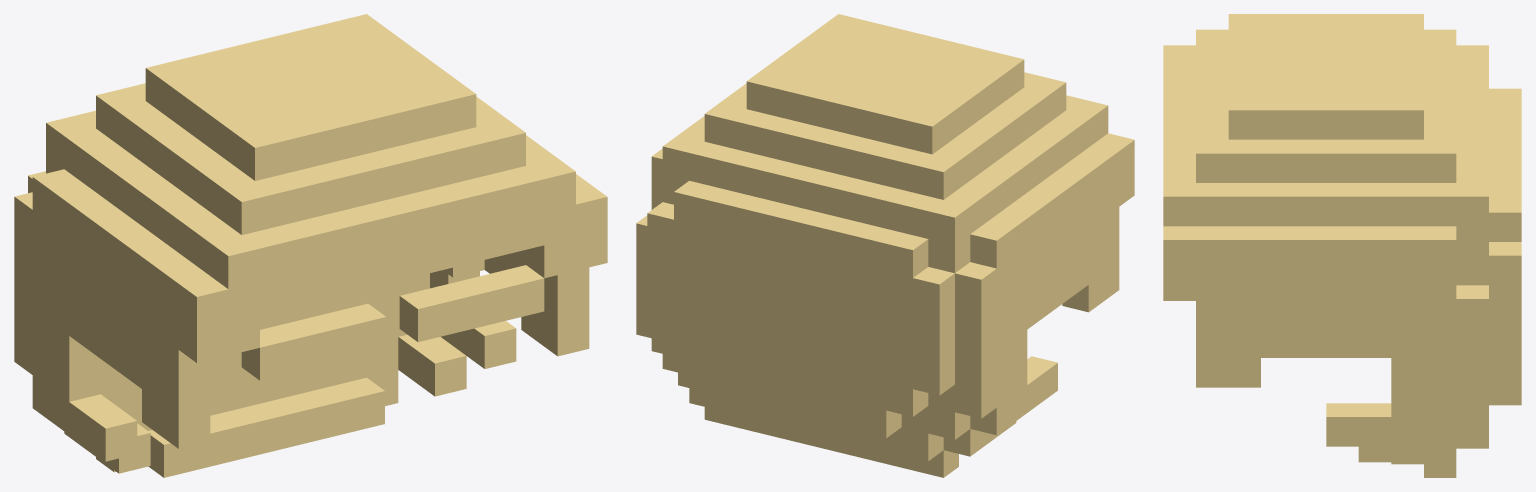
The model's file is Union.fbx.
3 views of the same model, side by side, from view 1: azimuth 30°, elevation 25°; view 2: azimuth 150°, elevation 25°; view 3: azimuth 270°, elevation 25° (orthographic). The views are drawn at different scales.
Parts seen in each view (by area): view 1: Union; view 2: Union; view 3: Union.
Boxes of the visible parts, left/top/right/bottom form: Union: left=14, top=14, right=607, bottom=477; Union: left=636, top=14, right=1134, bottom=477; Union: left=1163, top=14, right=1521, bottom=477.
Bounding box in the file's own units: 13 × 12 × 11.
1 material, 1 textured.
